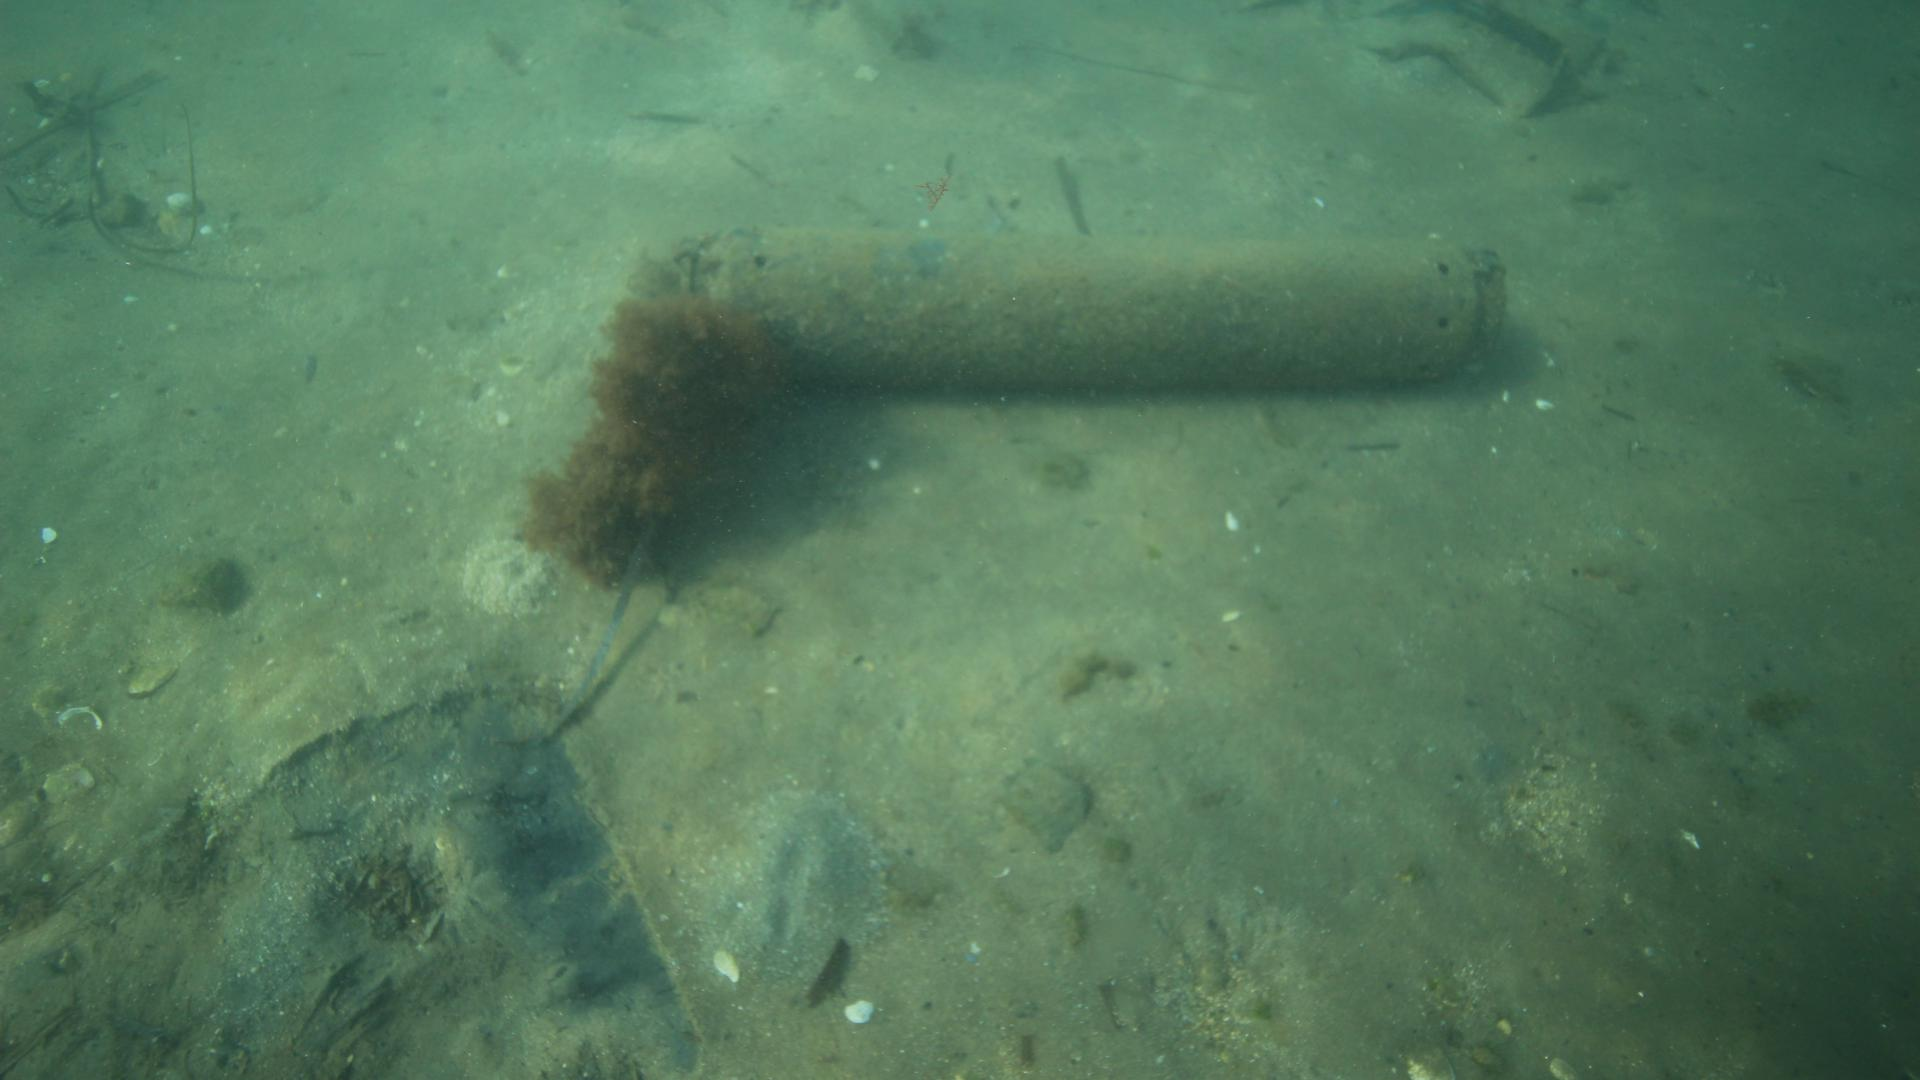eel fish trap: (673, 224, 1510, 396)
